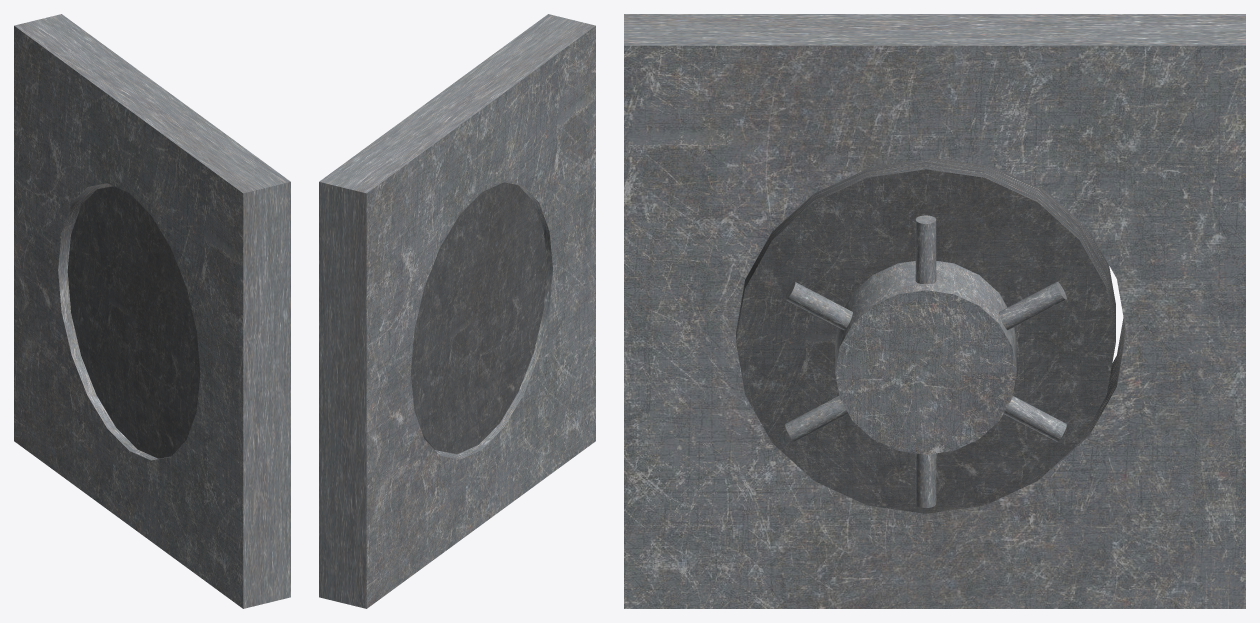
The model's file is bank-bola.fbx.
The picture shows the model from 3 angles, left to right: view 1: azimuth 30°, elevation 25°; view 2: azimuth 150°, elevation 25°; view 3: azimuth 270°, elevation 25°; orthographic projection. The views are drawn at different scales.
Parts seen in each view (by area): view 1: door1, bola; view 2: door1, bola; view 3: door1, bola, palancas, palanca1, palanca3, palanca2.
Part boxes in pixels (x1=…): door1: x1=14, y1=14, x2=290, y2=608; bola: x1=67, y1=185, x2=200, y2=458; door1: x1=319, y1=14, x2=595, y2=608; bola: x1=411, y1=182, x2=547, y2=454; door1: x1=624, y1=14, x2=1245, y2=608; bola: x1=736, y1=158, x2=1115, y2=513; palancas: x1=835, y1=261, x2=1016, y2=454; palanca1: x1=785, y1=281, x2=1066, y2=441; palanca3: x1=785, y1=281, x2=1066, y2=441; palanca2: x1=915, y1=215, x2=936, y2=507.
Size of the model in its own units: 16.27 by 60 by 60.
2 materials, 2 textured.
